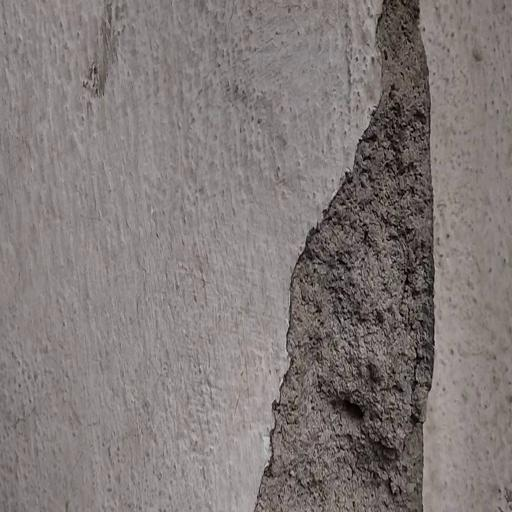spalling: (241, 0, 440, 512)
